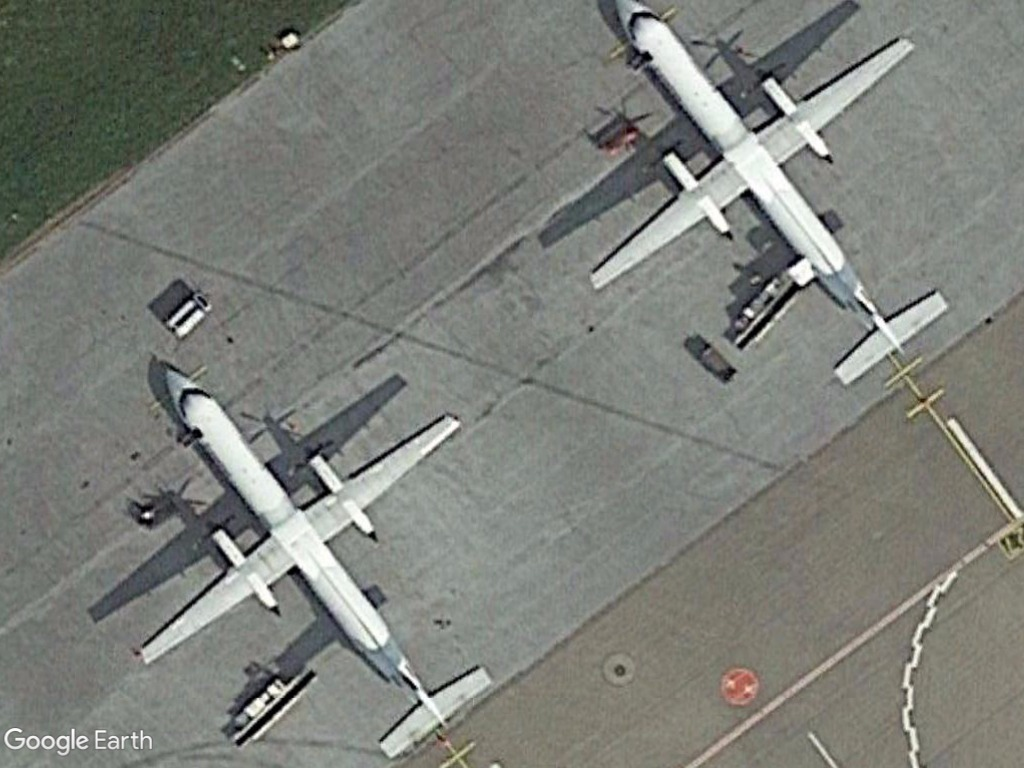propeller: (577, 1, 955, 393), (131, 359, 495, 765)
